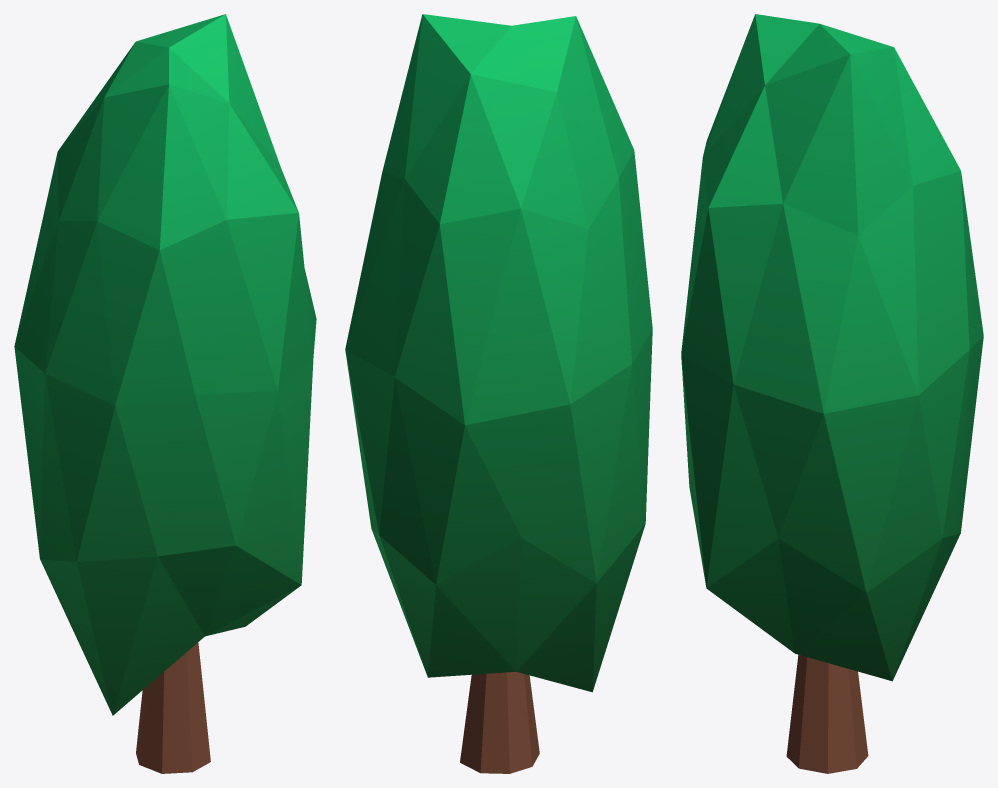
The model's file is Tree_05_gradient_green_vc.fbx.
3 renders of one model, left to right at view 1: azimuth 30°, elevation 25°; view 2: azimuth 150°, elevation 25°; view 3: azimuth 270°, elevation 25°, orthographic. The views are drawn at different scales.
Visible parts, largest first — view 1: Tree_05_gradient_green_vc; view 2: Tree_05_gradient_green_vc; view 3: Tree_05_gradient_green_vc.
Boxes of the visible parts, x1,y1,x2,y2 form: Tree_05_gradient_green_vc: [14, 14, 316, 773]; Tree_05_gradient_green_vc: [345, 14, 652, 773]; Tree_05_gradient_green_vc: [681, 14, 983, 773].
Size of the model in its own units: 104 by 266 by 99.25.
